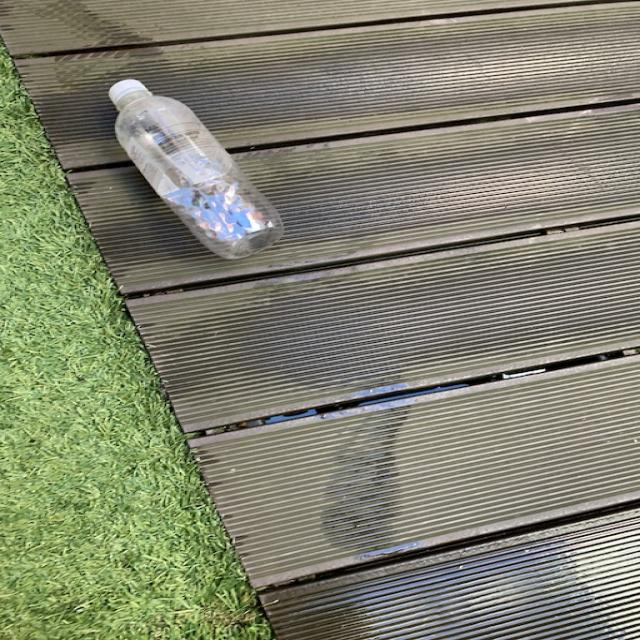Waste: (108, 81, 284, 259)
